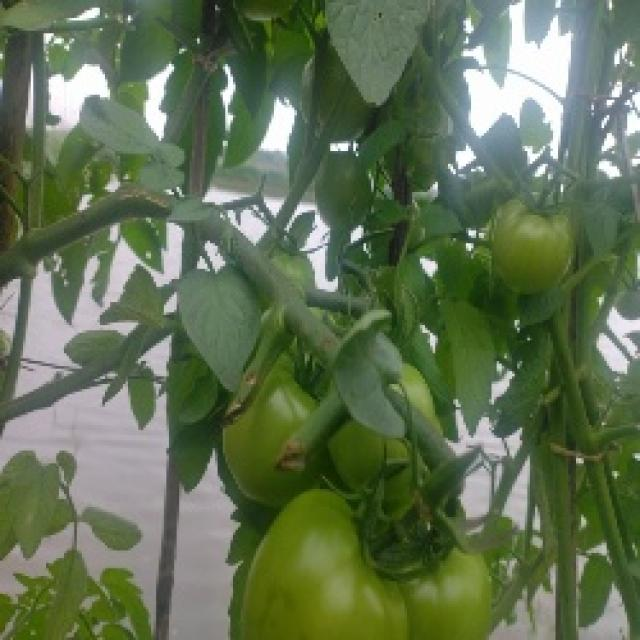tomato: (233, 489, 416, 640), (220, 371, 333, 499), (402, 529, 500, 640), (488, 198, 580, 293), (331, 416, 416, 504), (298, 53, 370, 146), (312, 155, 381, 231), (394, 362, 438, 427), (274, 246, 319, 288)
